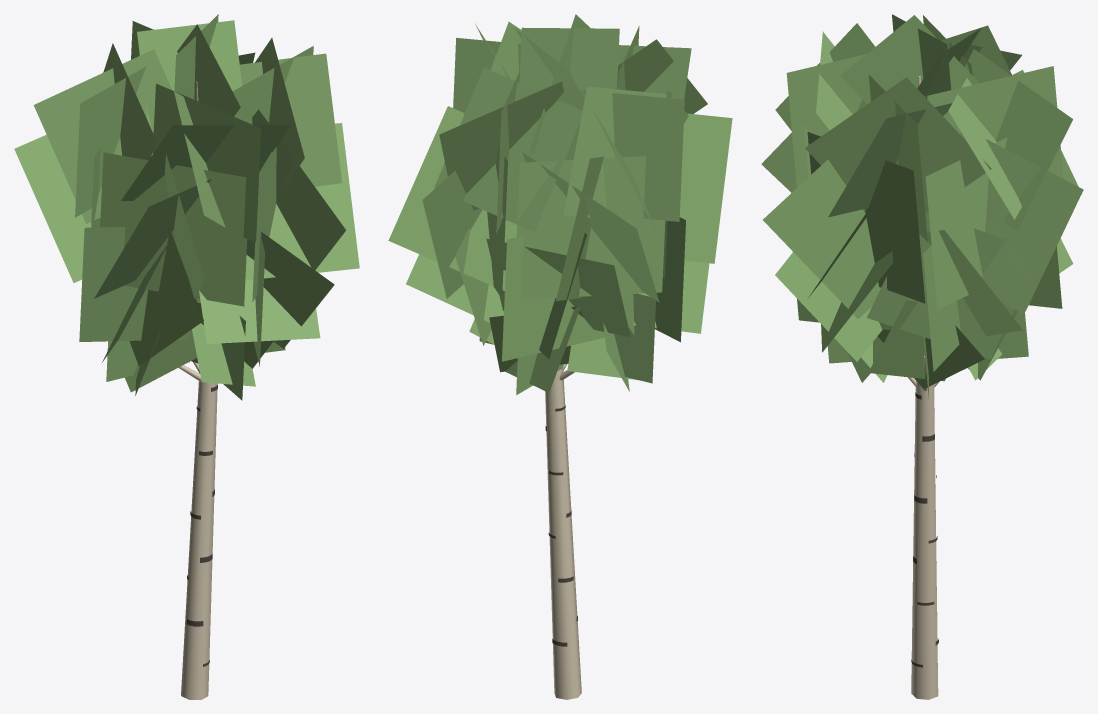
The model's file is birch.glb.
3 renders of one model, left to right at view 1: azimuth 30°, elevation 25°; view 2: azimuth 150°, elevation 25°; view 3: azimuth 270°, elevation 25°, orthographic.
Visible parts, largest first — view 1: Foliage, birch; view 2: Foliage, birch; view 3: Foliage, birch.
Boxes of the visible parts, box(x1,y1,x2,y2) form: Foliage: box(14, 14, 359, 400); birch: box(178, 81, 217, 699); Foliage: box(388, 14, 732, 394); birch: box(545, 364, 581, 699); Foliage: box(761, 14, 1083, 399); birch: box(908, 76, 939, 699).
Size of the model in its own units: 3.86 by 10.02 by 4.32.
